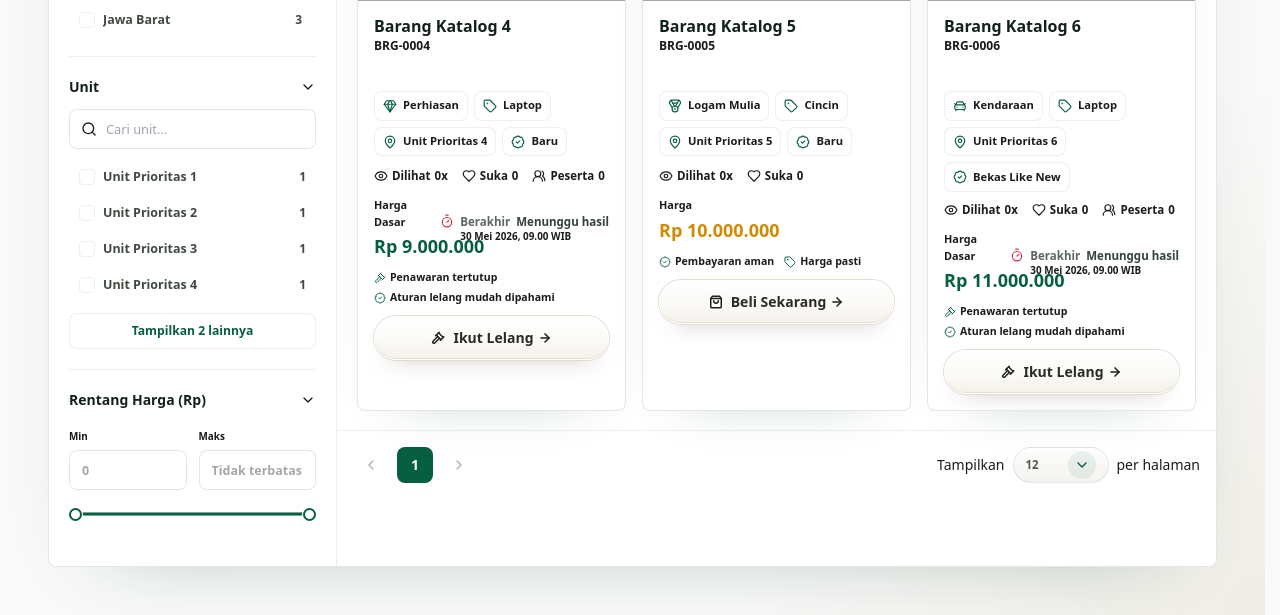
Test: CatalogPage › keeps card metadata tidy and shows only top units before expanding the unit list
(page scrolled)
Expected: the field with placeholder "0" is shown, [69,450,186,490]
Expected: the field with placeholder "Tidak terbatas" is shown, [198,450,316,490]
Step 1. Click the button "Tampilkan 2 lainnya" → (192, 331), box [69,313,316,349]
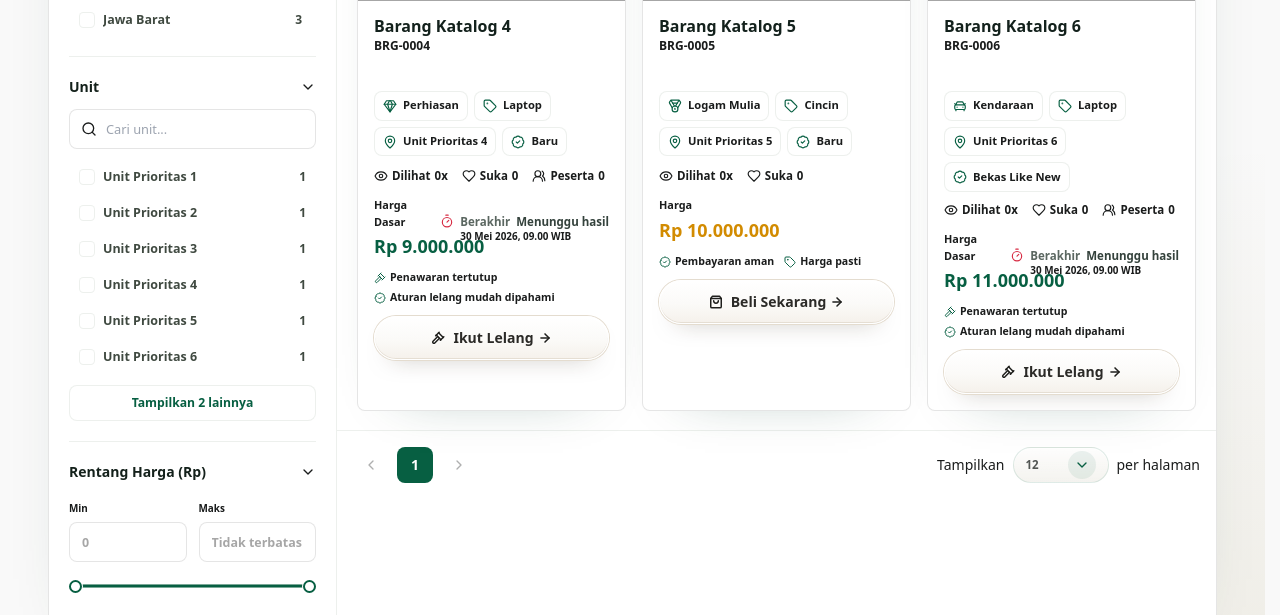
Expected: the button "Unit Prioritas 5 1" is shown, [69,305,316,337]
